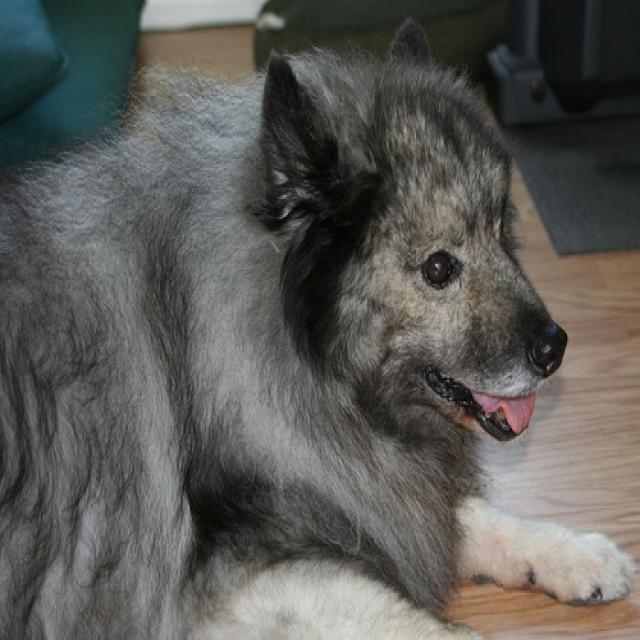dog-keeshond: (1, 7, 637, 636)
